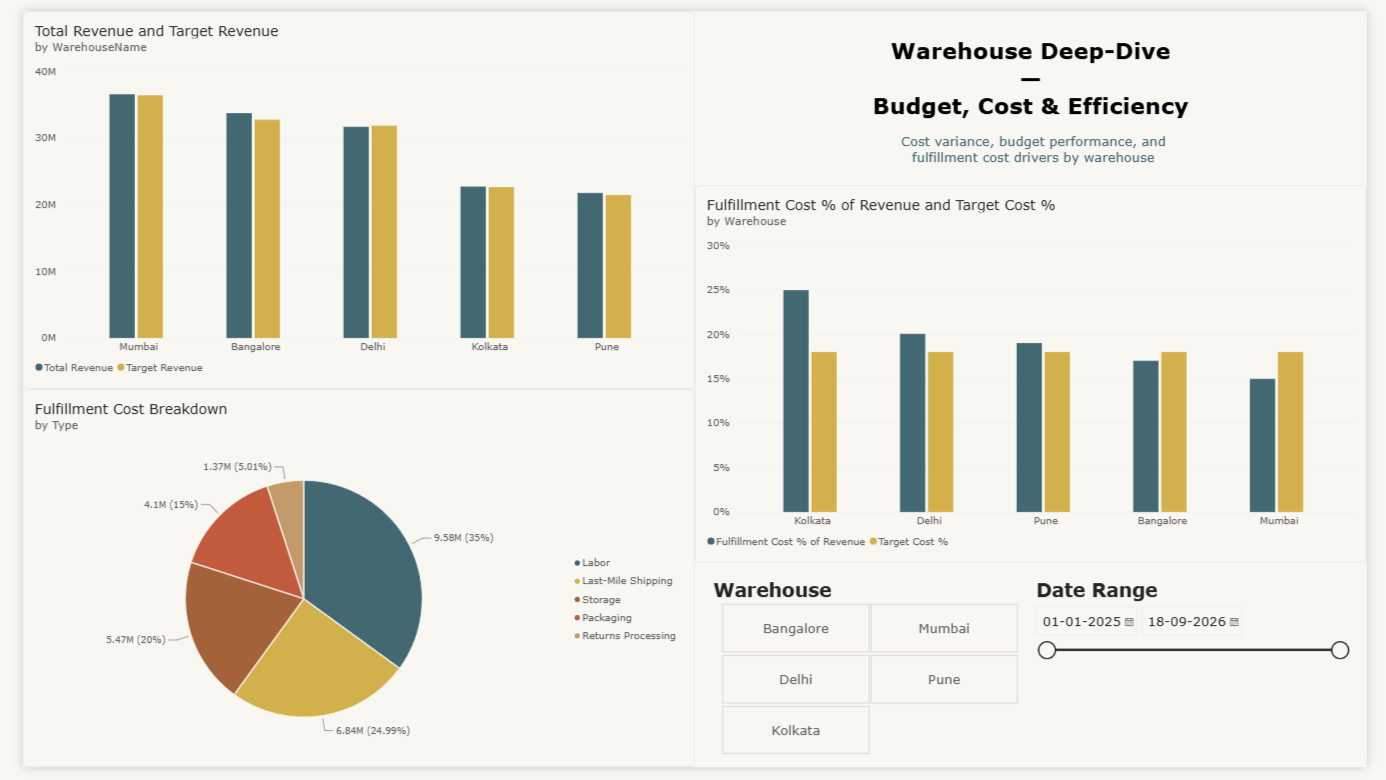

The page's visual inventory and layout, read from the dashboard file:
{"tool":"powerbi","page":{"name":"Warehouse Deep-Dive","canvas":[1920,1080],"ordinal":1},"visuals":[{"type":"clusteredColumnChart","fields":{"Category":["Dim_Warehouse.WarehouseName"],"Y":["_Measures.Total Revenue","_Measures.Target Revenue"]},"box":[0,0,960,540],"z":0},{"type":"clusteredColumnChart","fields":{"Category":["Dim_Warehouse.WarehouseName"],"Y":["_Measures.Fulfillment Cost % of Revenue","_Measures.Target Cost %"]},"box":[960,248.3,960,540],"z":1000},{"type":"pieChart","title":"Fulfillment Cost Breakdown","fields":{"Category":["Dim_CostType.CostTypeName"],"Y":["Sum(Fact_Order_Costs.Amount)"]},"box":[0,540,960,540],"z":2000},{"type":"slicer","fields":{"Values":["Dim_Warehouse.WarehouseName"]},"box":[978.3,810,461.7,253.3],"z":3000},{"type":"slicer","fields":{"Values":["Dim_Date.Date"]},"box":[1440,810,458.3,270],"z":4000},{"type":"textbox","box":[960,36.7,960,120],"z":5000},{"type":"textbox","box":[1233.3,175,421.7,48.3],"z":6000}]}

Visuals, with their boxes in screenshot pixels (x1, y1, x2, y2), scaled from the page's 1920x1080 canvas onto the 1386x780 screenshot:
clusteredColumnChart - Dim_Warehouse.WarehouseName x _Measures.Total Revenue: (0,0,693,390)
clusteredColumnChart - Dim_Warehouse.WarehouseName x _Measures.Fulfillment Cost % of Revenue: (693,179,1385,569)
"Fulfillment Cost Breakdown" pieChart: (0,390,693,779)
slicer - Dim_Warehouse.WarehouseName: (706,585,1040,768)
slicer - Dim_Date.Date: (1040,585,1370,779)
textbox: (693,27,1385,113)
textbox: (890,126,1195,161)
